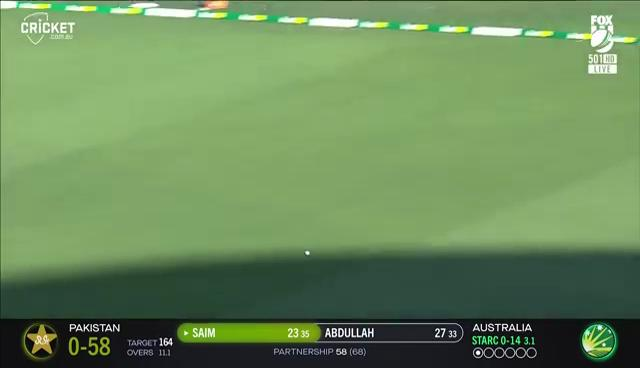ball: (299, 246, 320, 262)
